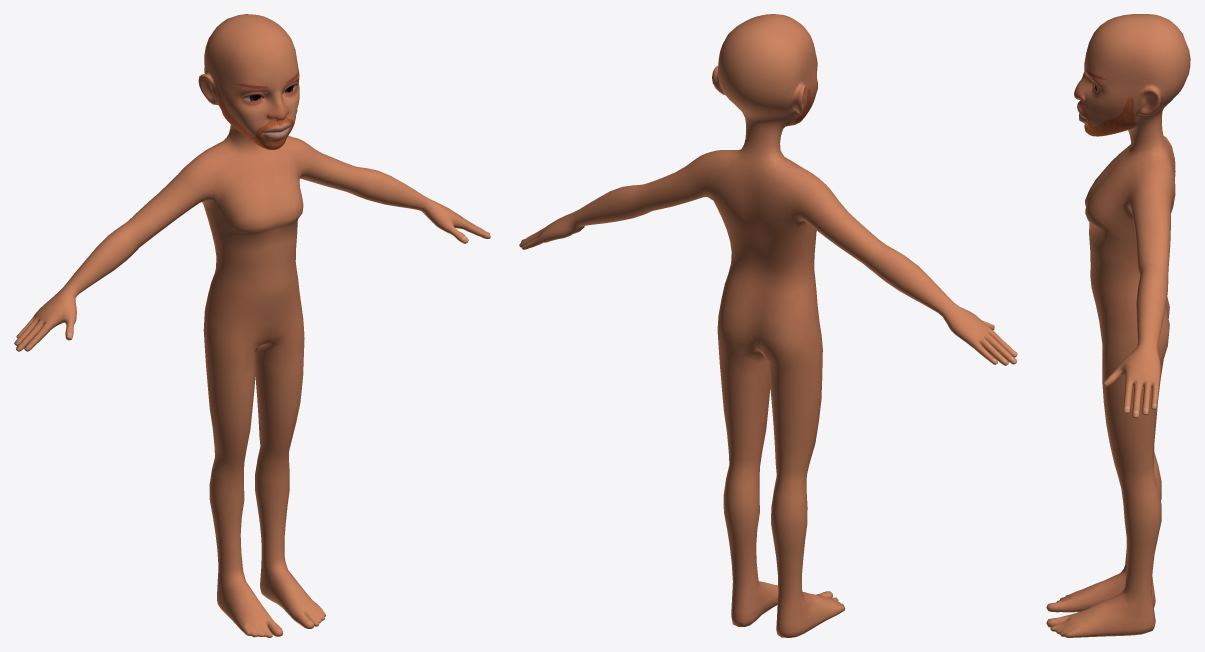
Rendered from frame_0083.glb.
The picture shows the model from 3 angles, left to right: view 1: azimuth 30°, elevation 25°; view 2: azimuth 150°, elevation 25°; view 3: azimuth 270°, elevation 25°; orthographic projection. The views are drawn at different scales.
Parts seen in each view (by area): view 1: frame_0083_head_geo; view 2: frame_0083_head_geo; view 3: frame_0083_head_geo.
Boxes of the visible parts, box(x1,y1,x2,y2) form: frame_0083_head_geo: box(14, 14, 490, 637); frame_0083_head_geo: box(519, 14, 1017, 637); frame_0083_head_geo: box(1046, 14, 1190, 637).
Bounding box in the file's own units: 1.28 × 1.5 × 0.3253.
Materials: 3 (3 with a texture image).
